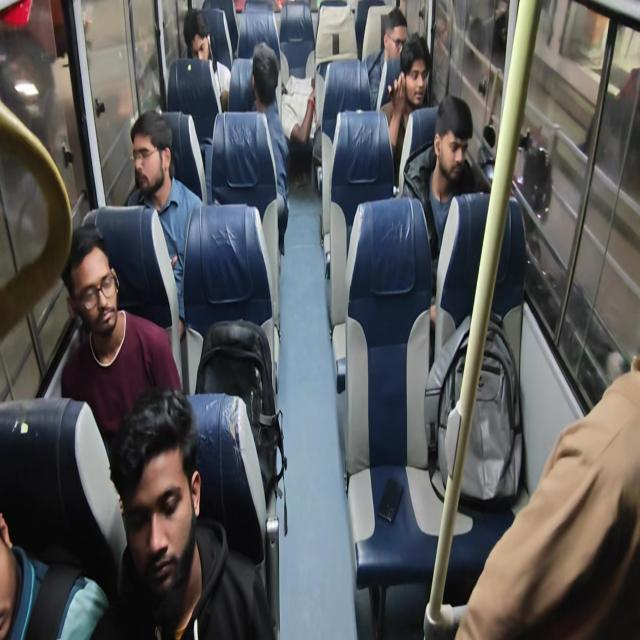person: (110, 383, 266, 640), (70, 221, 136, 366), (275, 23, 330, 154), (437, 88, 493, 204), (126, 108, 180, 209), (0, 438, 27, 640), (384, 12, 434, 115), (393, 37, 449, 108), (239, 48, 291, 111), (181, 11, 217, 67)
